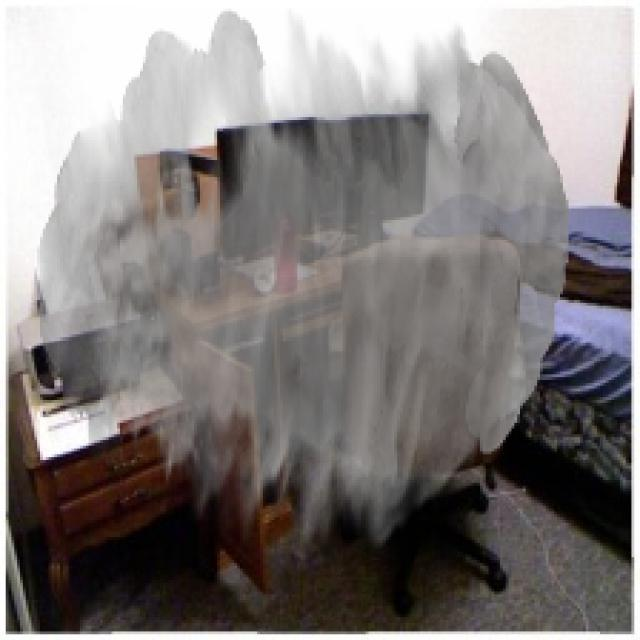Smoke: (37, 8, 569, 554)
